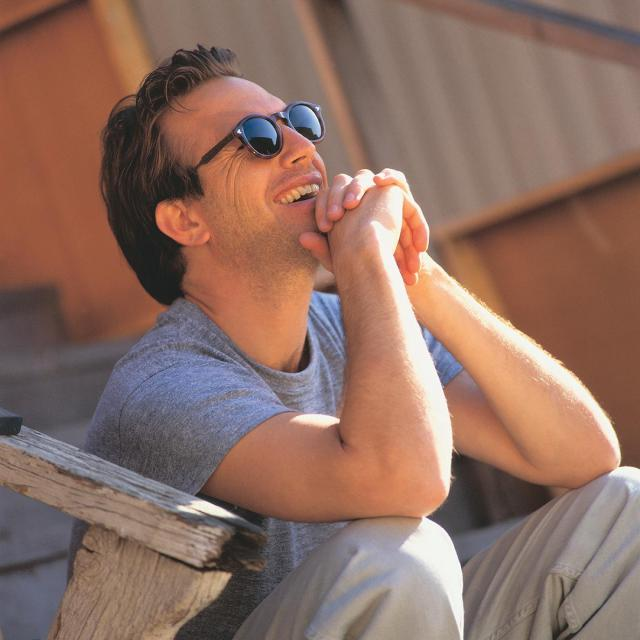no-earmuff: (146, 176, 224, 261)
